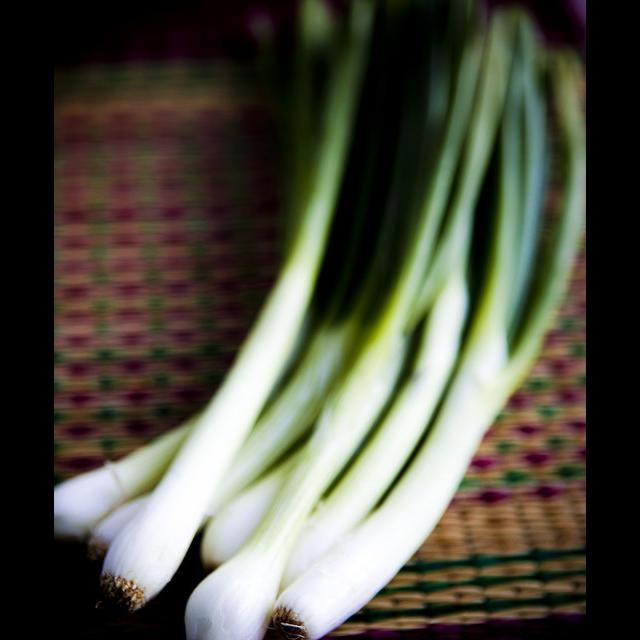green_onion: (56, 0, 585, 640)
